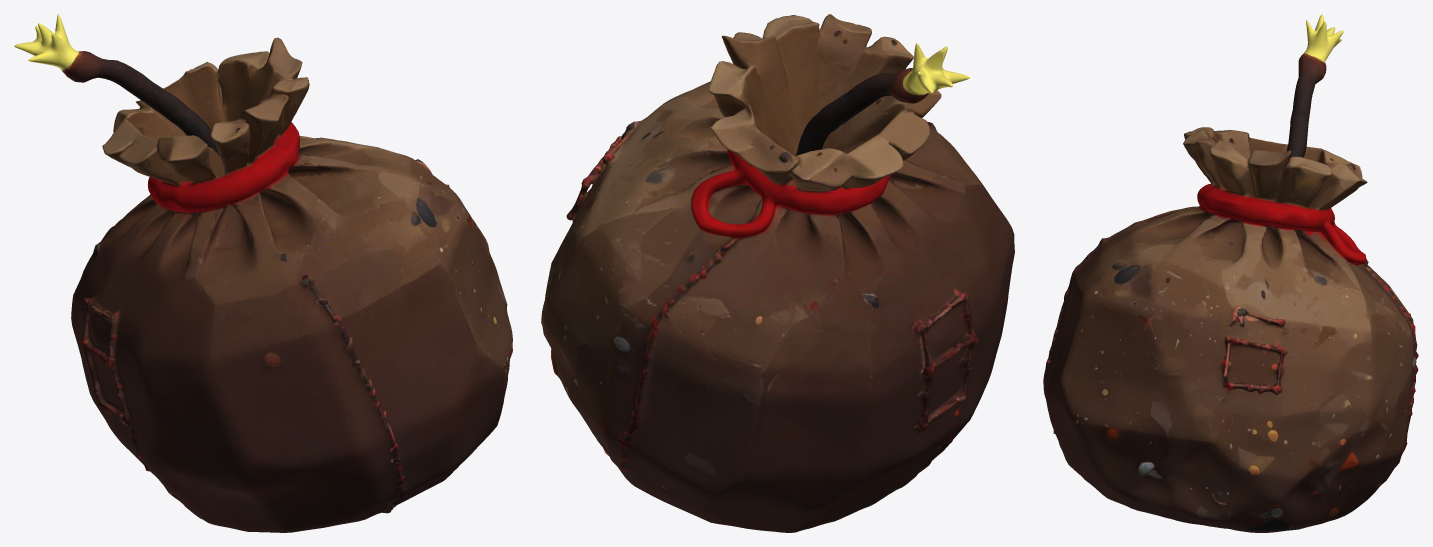
File: item_dust_bomb.glb
3 views of the same model, side by side, from view 1: azimuth 30°, elevation 25°; view 2: azimuth 150°, elevation 25°; view 3: azimuth 270°, elevation 25° (orthographic). The views are drawn at different scales.
Visible parts, largest first — view 1: tripo_node_71495e53-d329-44cb-9679-653be6d2bf6d; view 2: tripo_node_71495e53-d329-44cb-9679-653be6d2bf6d; view 3: tripo_node_71495e53-d329-44cb-9679-653be6d2bf6d.
Boxes of the visible parts, x1,y1,x2,y2 form: tripo_node_71495e53-d329-44cb-9679-653be6d2bf6d: [14, 14, 512, 532]; tripo_node_71495e53-d329-44cb-9679-653be6d2bf6d: [541, 14, 1014, 532]; tripo_node_71495e53-d329-44cb-9679-653be6d2bf6d: [1043, 14, 1418, 532].
Size of the model in its own units: 0.8463 by 0.9745 by 0.7934.
1 material, 1 textured.
